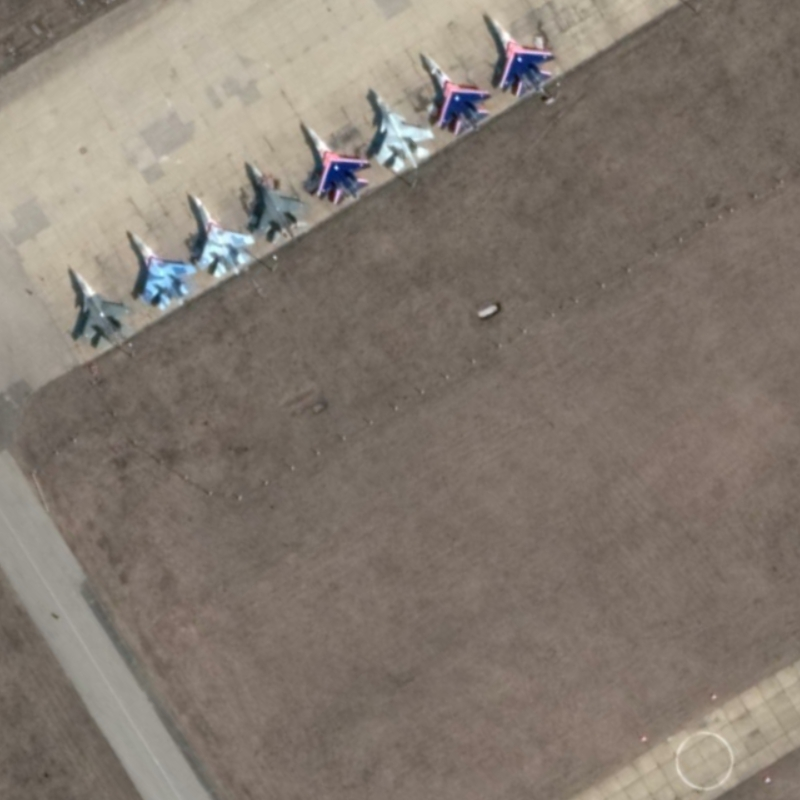A1: (481, 7, 560, 103), (416, 45, 495, 140), (298, 116, 375, 209), (185, 188, 259, 279), (243, 154, 316, 246), (124, 225, 199, 314)
A19: (365, 84, 438, 176), (65, 262, 130, 348)
